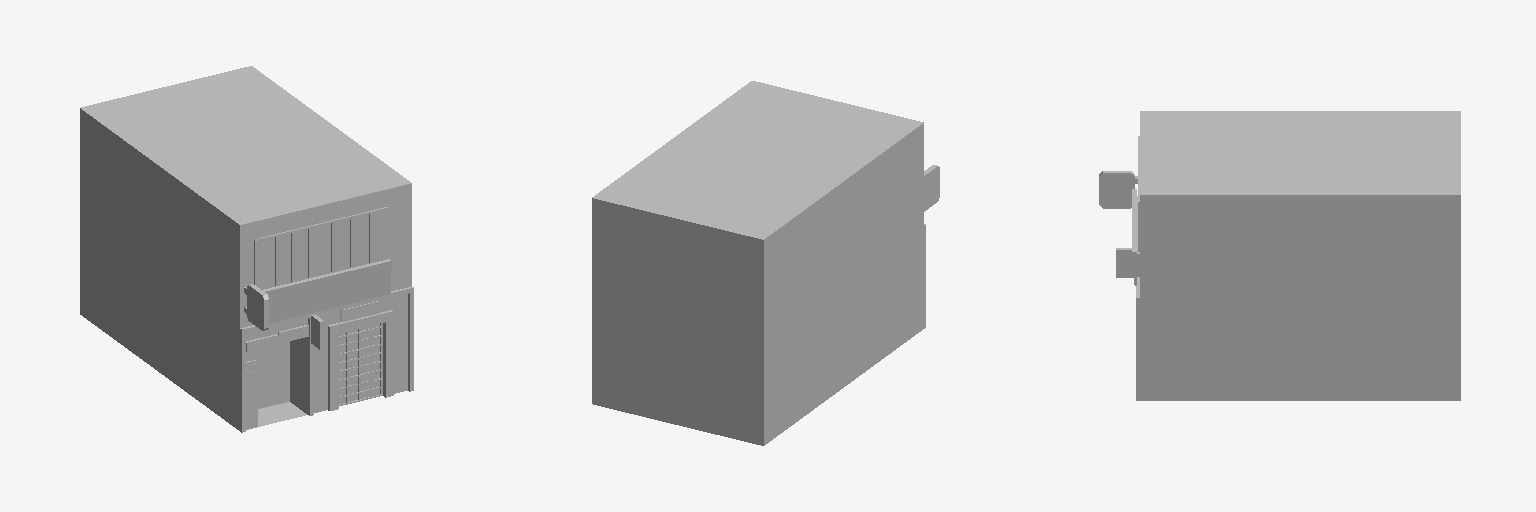
Rendered from Building 3.obj.
3 renders of one model, left to right at view 1: azimuth 30°, elevation 25°; view 2: azimuth 150°, elevation 25°; view 3: azimuth 270°, elevation 25°, orthographic.
Parts seen in each view (by area): view 1: Cube_(10); view 2: Cube_(10); view 3: Cube_(10).
Boxes of the visible parts, box(x1,y1,x2,y2) form: Cube_(10): box(80, 66, 413, 432); Cube_(10): box(592, 81, 939, 445); Cube_(10): box(1099, 111, 1460, 400).
Size of the model in its own units: 10.31 by 11.81 by 18.74.